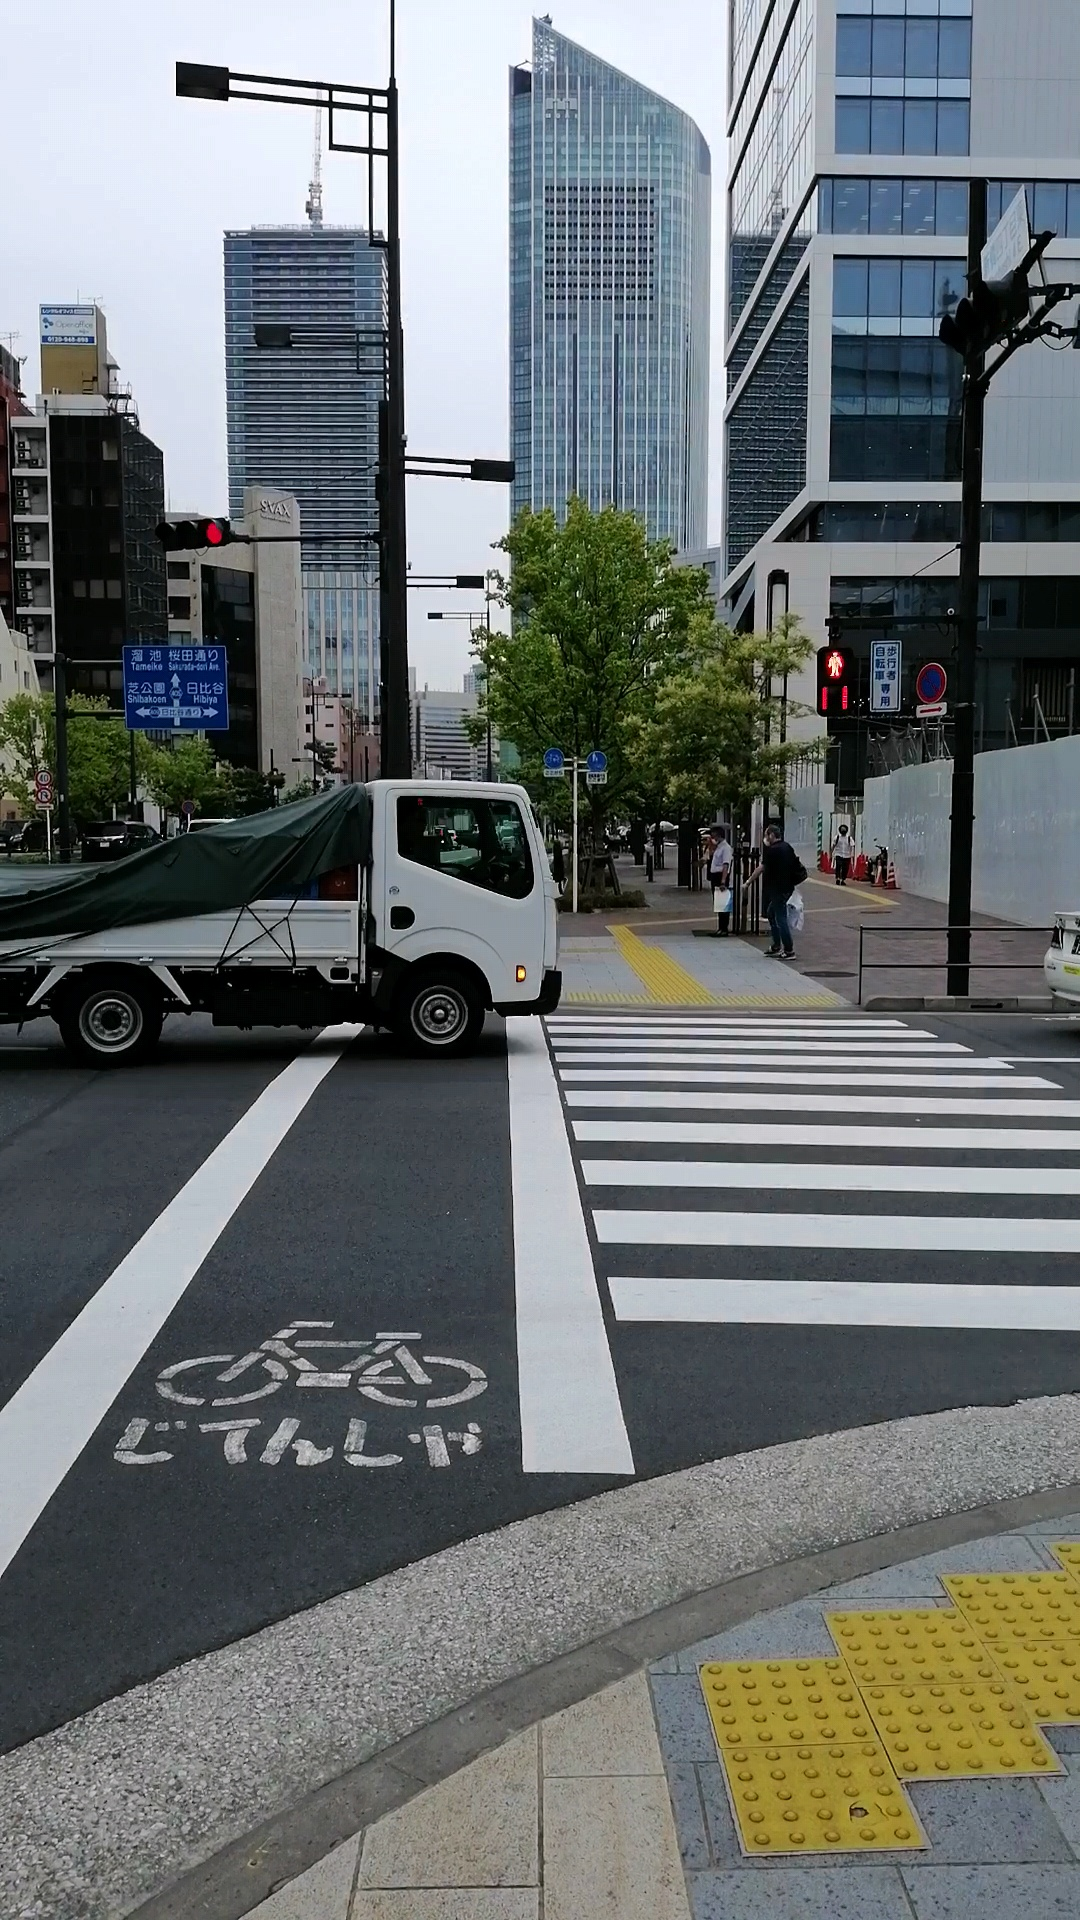red: (815, 647, 851, 715)
